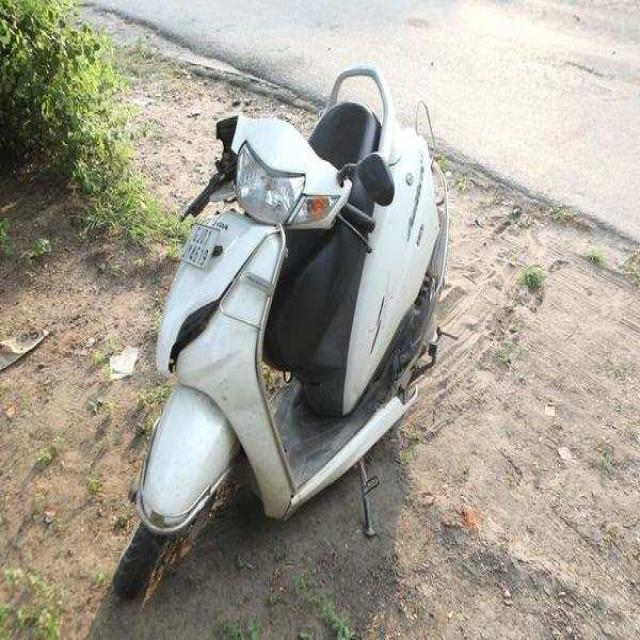accident: (112, 65, 454, 603)
